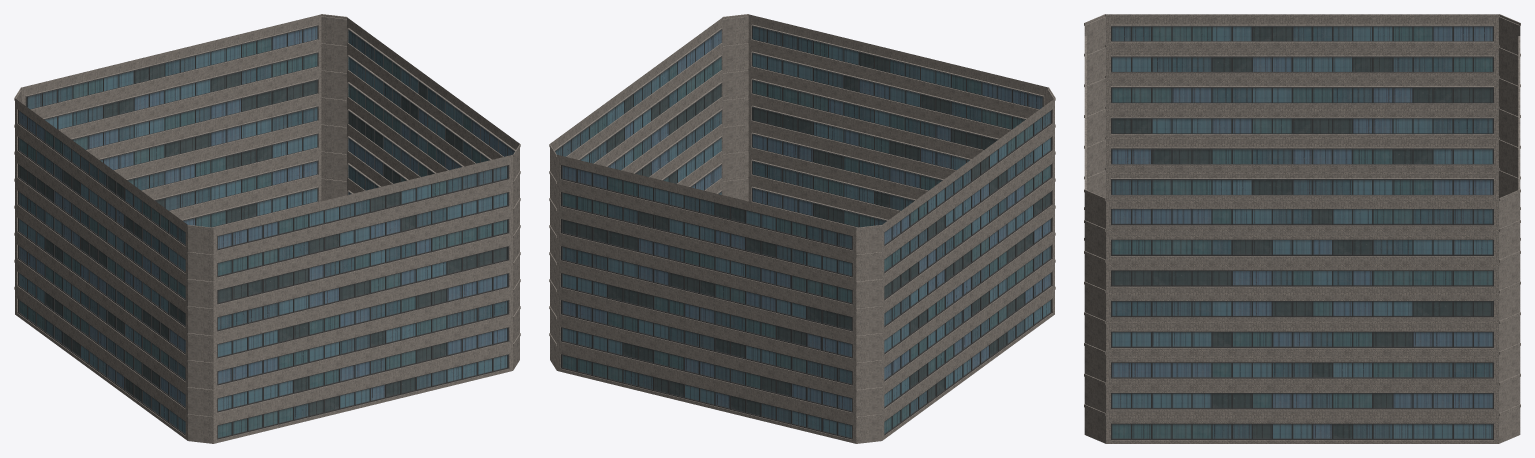
The model's file is jctBld50D_mdl.fbx.
3 renders of one model, left to right at view 1: azimuth 30°, elevation 25°; view 2: azimuth 150°, elevation 25°; view 3: azimuth 270°, elevation 25°, orthographic. The views are drawn at different scales.
Visible parts, largest first — view 1: jctBld50D_mdl_LOD0; view 2: jctBld50D_mdl_LOD0; view 3: jctBld50D_mdl_LOD0.
Part boxes in pixels (bbox=[...]): jctBld50D_mdl_LOD0: bbox=[14, 14, 520, 443]; jctBld50D_mdl_LOD0: bbox=[549, 14, 1055, 443]; jctBld50D_mdl_LOD0: bbox=[1084, 14, 1520, 443].
Bounding box in the file's own units: 4514 × 2800 × 4514.
